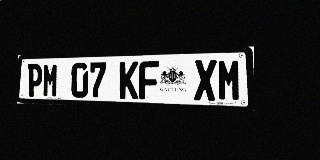0: (71, 62, 88, 98)
7: (88, 62, 106, 98)
F: (139, 61, 159, 100)
K: (119, 61, 138, 99)
M: (217, 59, 241, 101), (42, 63, 59, 97)
P: (27, 64, 43, 97)
X: (194, 59, 217, 101)
